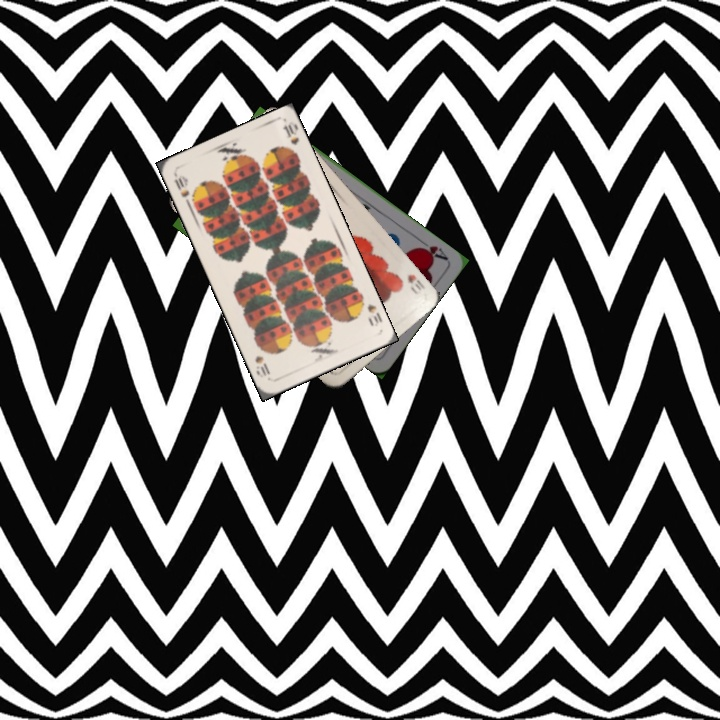H10: (403, 270, 427, 297)
HA: (413, 235, 450, 263)
S10: (355, 294, 384, 329), (170, 170, 192, 200)
